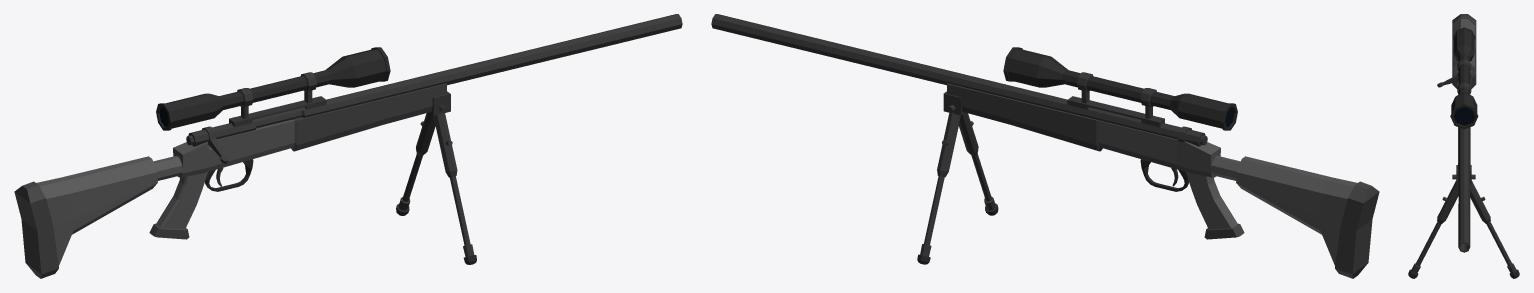
Rendered from quaternius-ultimate-gun-pack-july-sniperrifle-5.glb.
3 views of the same model, side by side, from view 1: azimuth 30°, elevation 25°; view 2: azimuth 150°, elevation 25°; view 3: azimuth 270°, elevation 25° (orthographic). The views are drawn at different scales.
Visible parts, largest first — view 1: SniperRifle_5; view 2: SniperRifle_5; view 3: SniperRifle_5.
Boxes of the visible parts, left/top/right/bottom form: SniperRifle_5: left=14, top=14, right=682, bottom=278; SniperRifle_5: left=711, top=14, right=1379, bottom=278; SniperRifle_5: left=1408, top=14, right=1519, bottom=278.
Bounding box in the file's own units: 6.34 × 1.9 × 1.25.
Materials: 1 (1 with a texture image).
